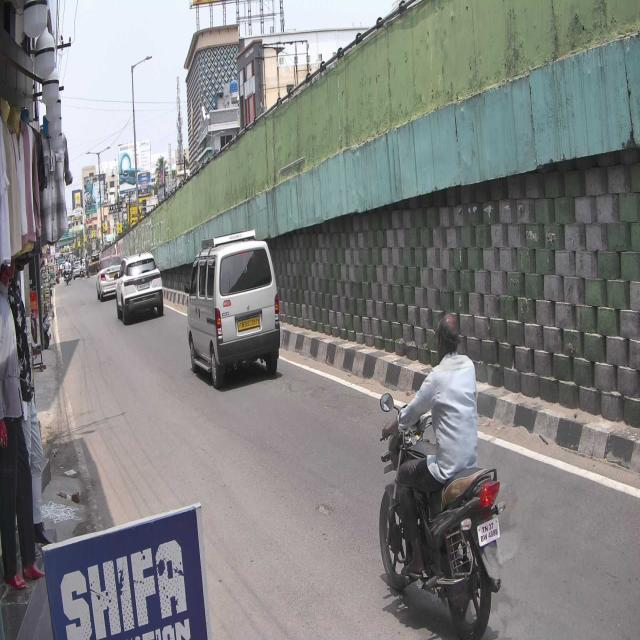single_rider: (378, 313, 505, 640)
